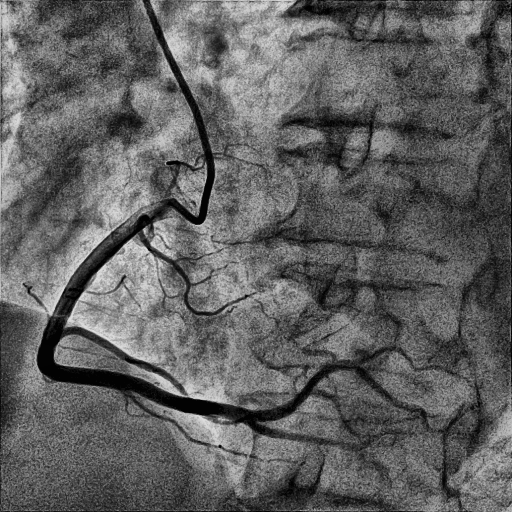pborca: (253, 360, 427, 421)
pda: (250, 422, 397, 450)
rca: (37, 198, 255, 426)
